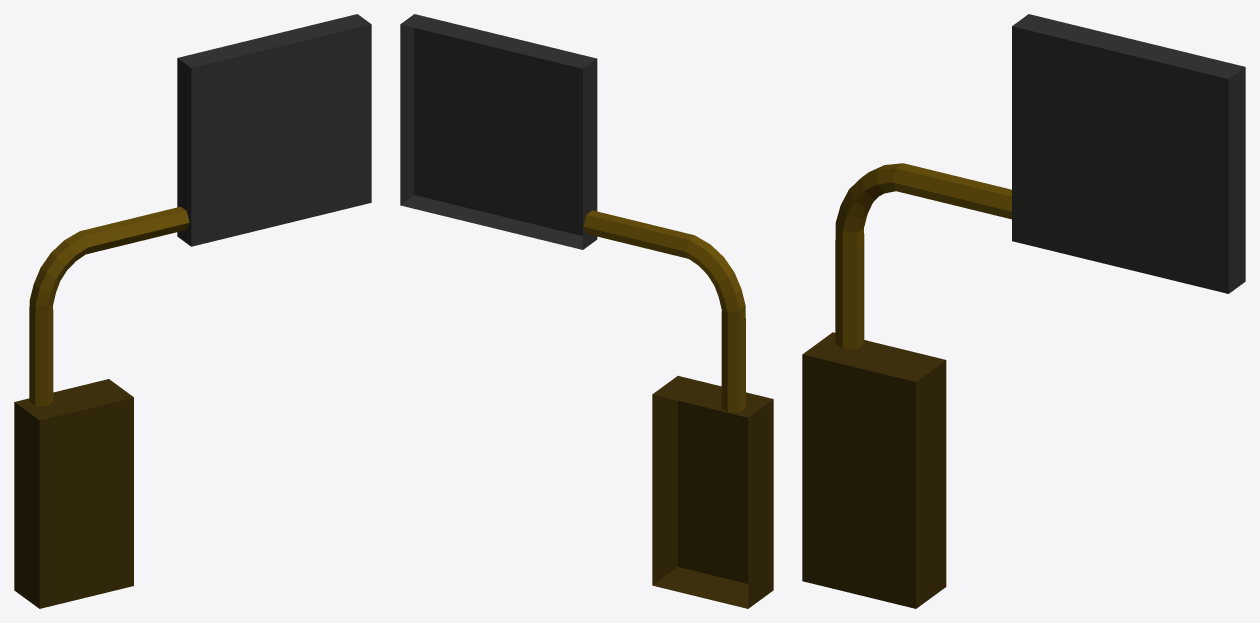
The model's file is SM_buildingprop02.FBX.
3 renders of one model, left to right at view 1: azimuth 30°, elevation 25°; view 2: azimuth 150°, elevation 25°; view 3: azimuth 330°, elevation 25°, orthographic. The views are drawn at different scales.
Visible parts, largest first — view 1: building_prop2; view 2: building_prop2; view 3: building_prop2.
Boxes of the visible parts, <box> form: building_prop2: <box>14,14,371,608</box>; building_prop2: <box>400,14,773,608</box>; building_prop2: <box>802,14,1245,608</box>.
Size of the model in its own units: 128 by 175 by 16.23.
